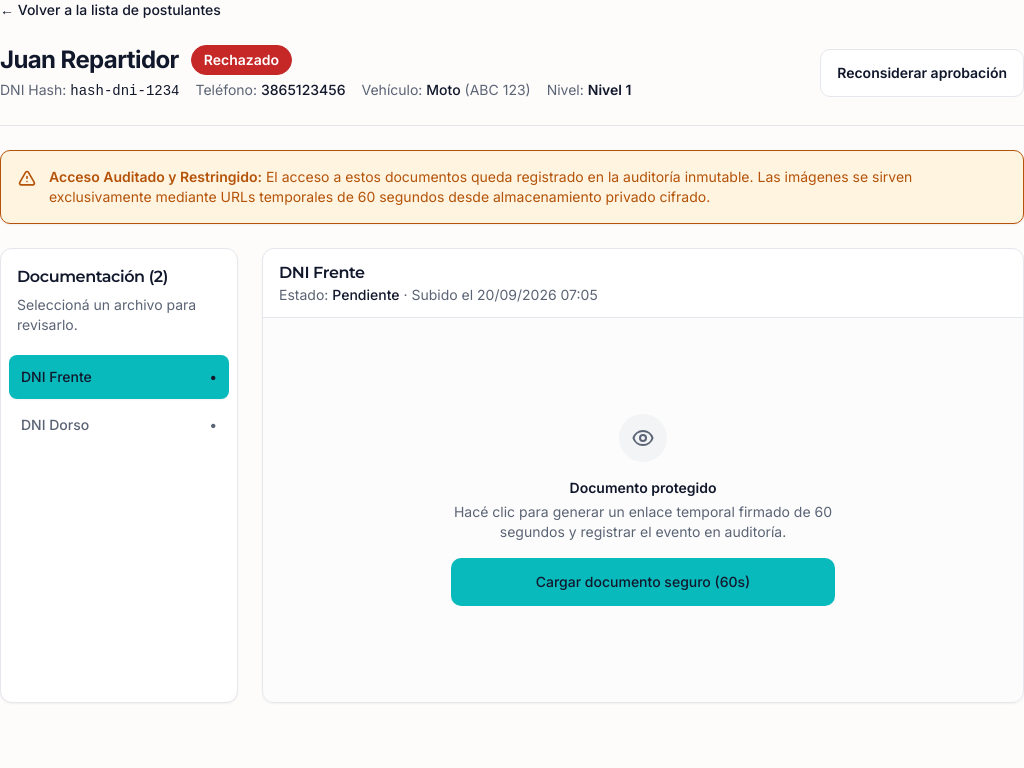
Test: T-380: reactivar o reconsiderar con reinstateCourierAction (CC-034) › INVALID_STATE_TRANSITION muestra un mensaje claro en el diálogo, no el genérico ni el de pedidos
Click the button "Reconsiderar aprobación".
click(922, 72)  # box [820,48,1023,96]
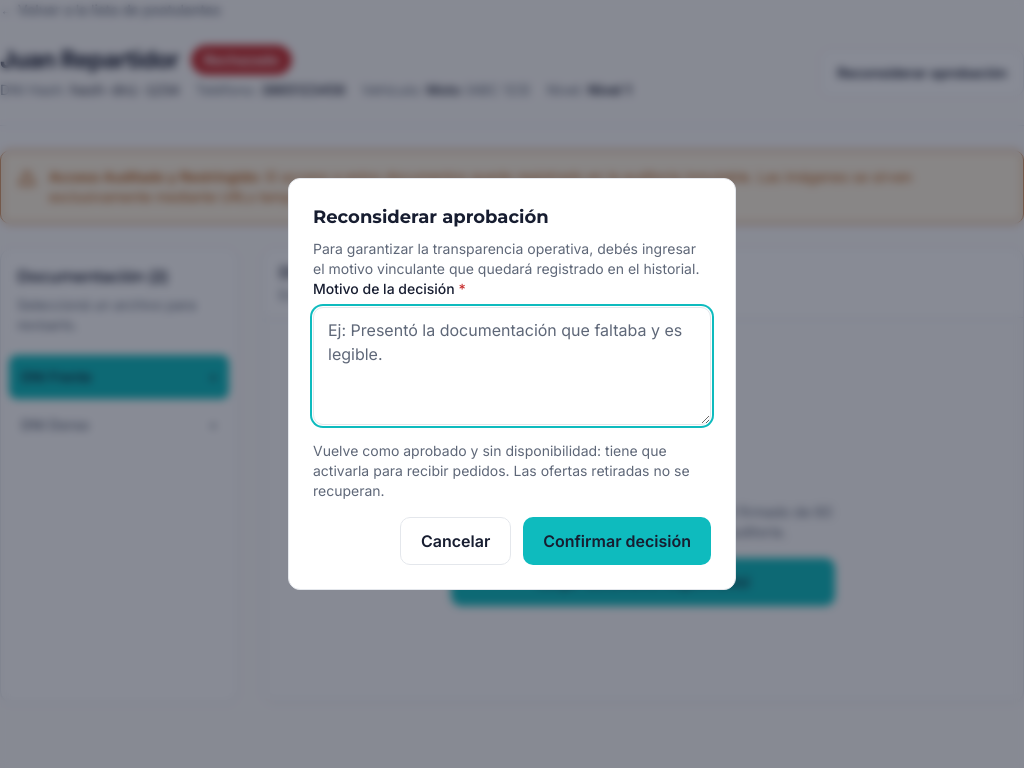
Type "Se revisó el reclamo y no hubo falta del repartidor." into the text box labelled "Motivo de la decisión *".
click(512, 366); type("Se revisó el reclamo y no hubo falta del repartidor.")  # box [313,307,711,425]
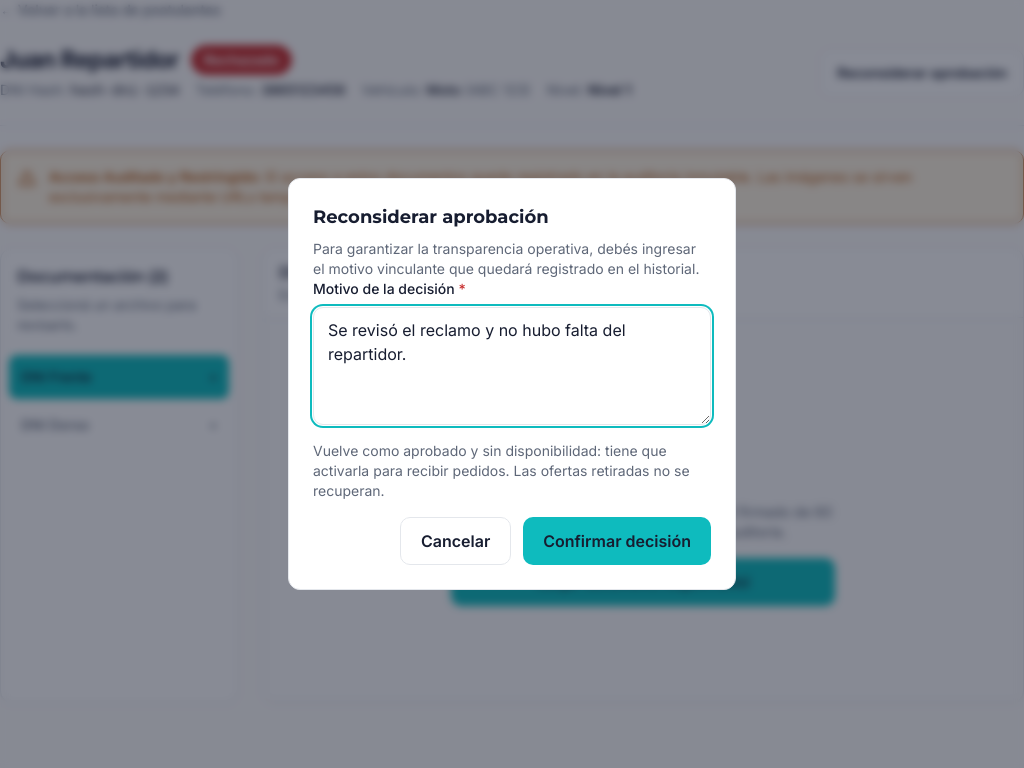
Click the button "Confirmar decisión".
click(617, 541)  # box [523,517,711,565]
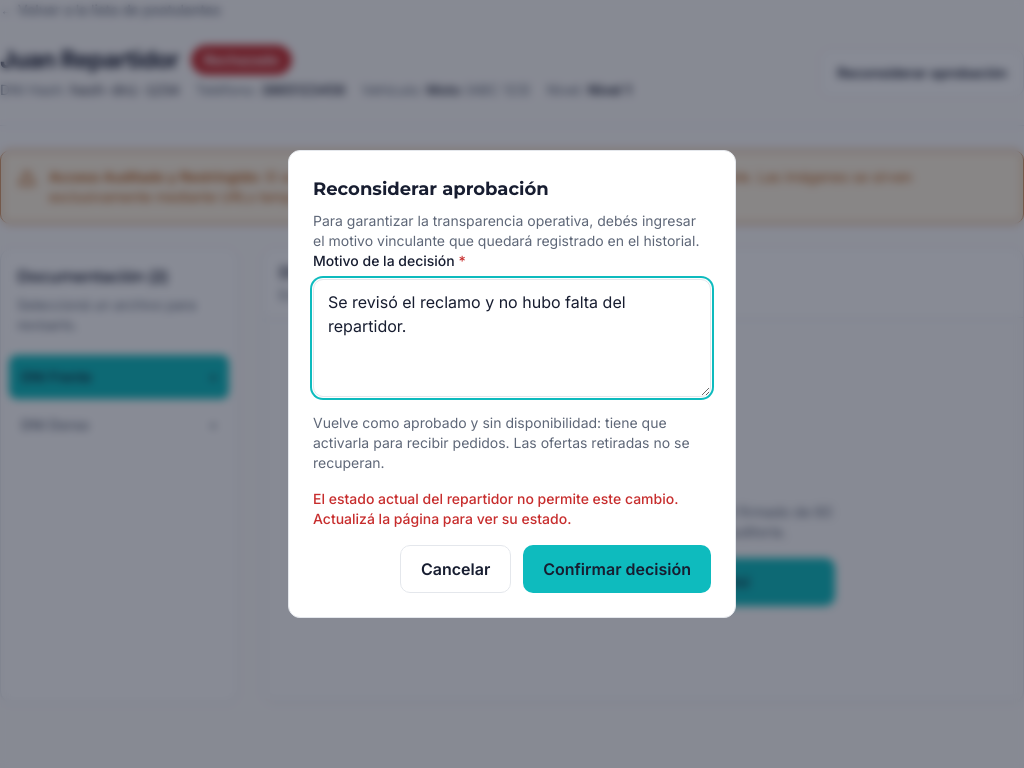
Check: the dialog is shown, box [288,150,736,618]
Check: the message shows "El estado actual del repartidor no permite este cambio. Actualizá la página para ver su estado.", box [313,490,678,527]
